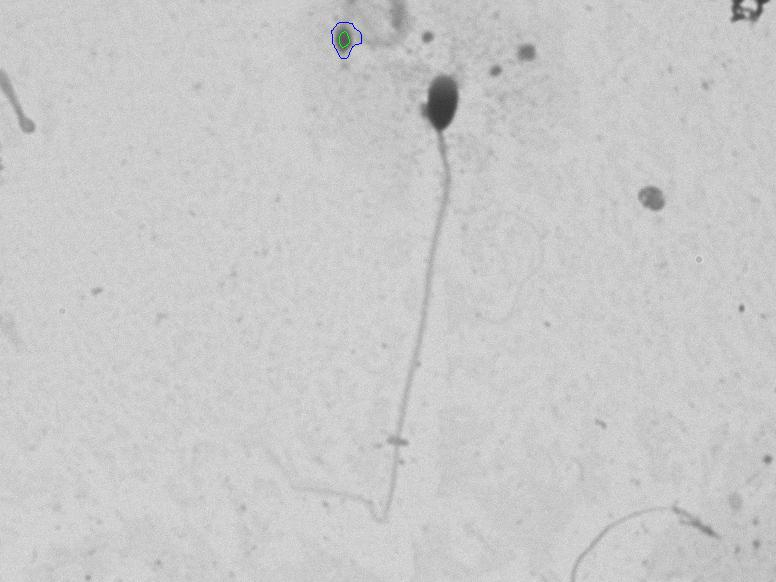Normal: (272, 54, 535, 516)
